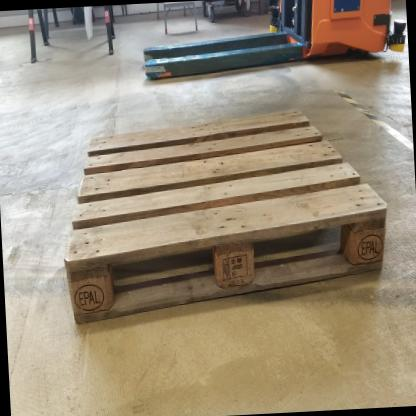BoxFace: (53, 105, 396, 332)
